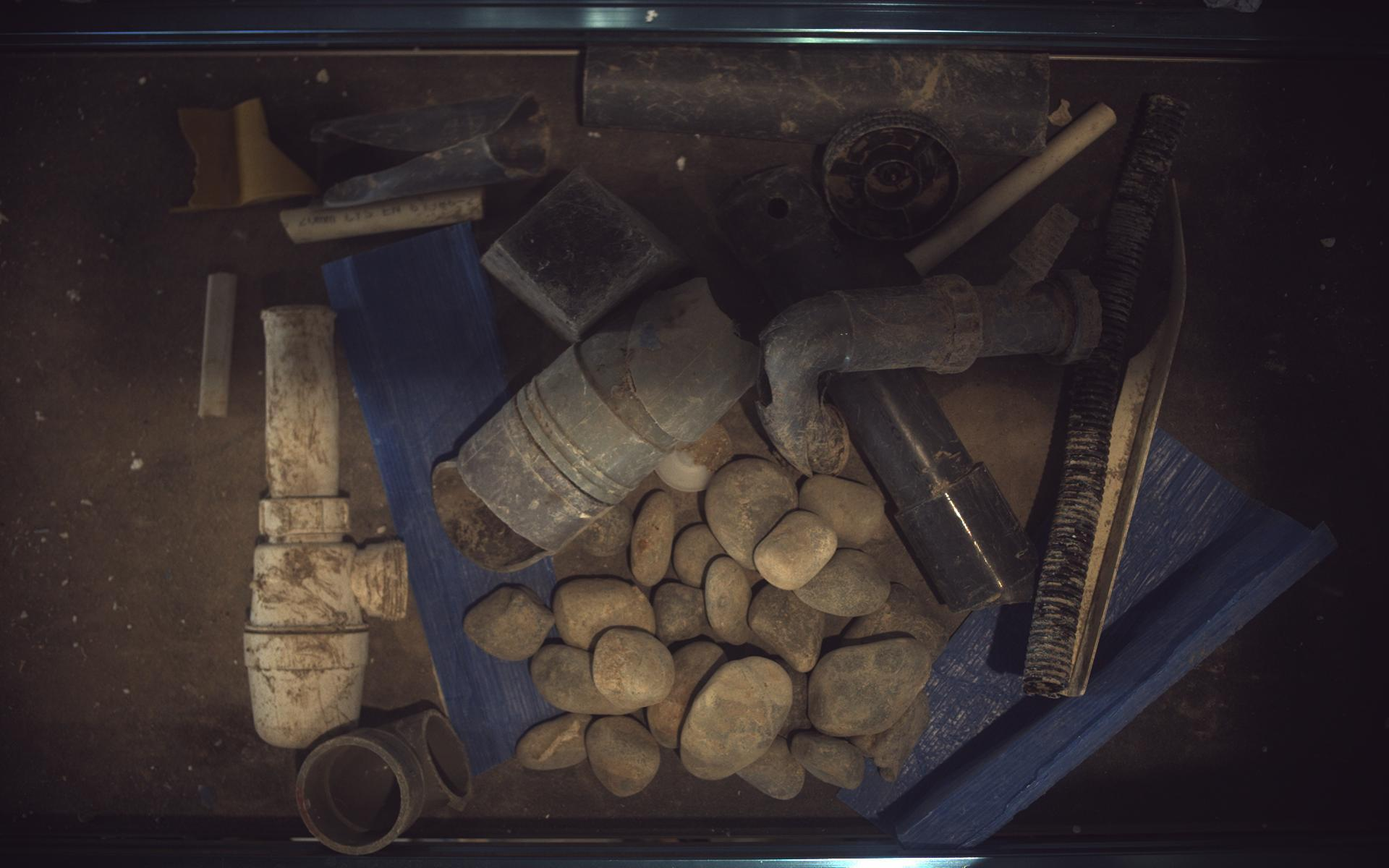pipes: (1026, 93, 1190, 699), (432, 278, 759, 571), (760, 204, 1104, 474), (582, 44, 1052, 155), (829, 368, 1040, 612), (907, 101, 1118, 276), (310, 93, 551, 206), (296, 710, 472, 856), (719, 166, 849, 307), (261, 305, 339, 498), (279, 187, 483, 243)
plastic: (841, 432, 1339, 850), (322, 224, 556, 774), (1069, 181, 1189, 697), (482, 167, 685, 341), (824, 112, 961, 240), (171, 98, 318, 211), (243, 629, 368, 749), (250, 540, 408, 629), (197, 273, 237, 417), (656, 423, 734, 492), (260, 497, 349, 544)
stone: (681, 658, 794, 781), (810, 639, 934, 739), (706, 458, 799, 569), (648, 642, 725, 750), (844, 584, 951, 661), (530, 645, 640, 716), (850, 694, 931, 785), (553, 579, 655, 651), (593, 628, 676, 713), (464, 586, 555, 662), (749, 585, 827, 673), (755, 511, 839, 591), (798, 550, 893, 618), (801, 475, 886, 548), (587, 718, 661, 799), (737, 737, 807, 801), (792, 732, 867, 791), (631, 490, 676, 588), (517, 715, 592, 772), (705, 557, 752, 646), (654, 583, 709, 645), (674, 524, 726, 588), (578, 503, 634, 558)
